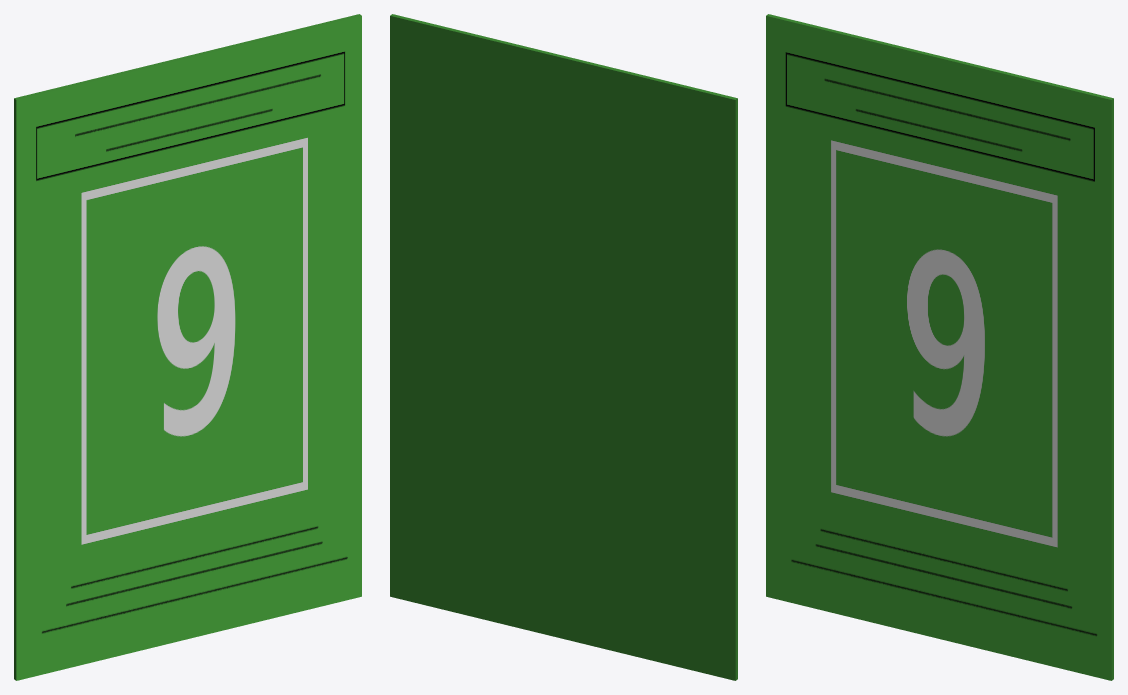
The model's file is GreenPoster.glb.
The picture shows the model from 3 angles, left to right: view 1: azimuth 30°, elevation 25°; view 2: azimuth 150°, elevation 25°; view 3: azimuth 330°, elevation 25°; orthographic projection.
Visible parts, largest first — view 1: Green_Poster; view 2: Green_Poster; view 3: Green_Poster.
Part boxes in pixels (x1,y1,x2,y2): Green_Poster: (14,14,361,680); Green_Poster: (390,14,737,680); Green_Poster: (766,14,1113,680).
Bounding box in the file's own units: 2.37 × 3.81 × 0.0288.
Materials: 1 (1 with a texture image).
